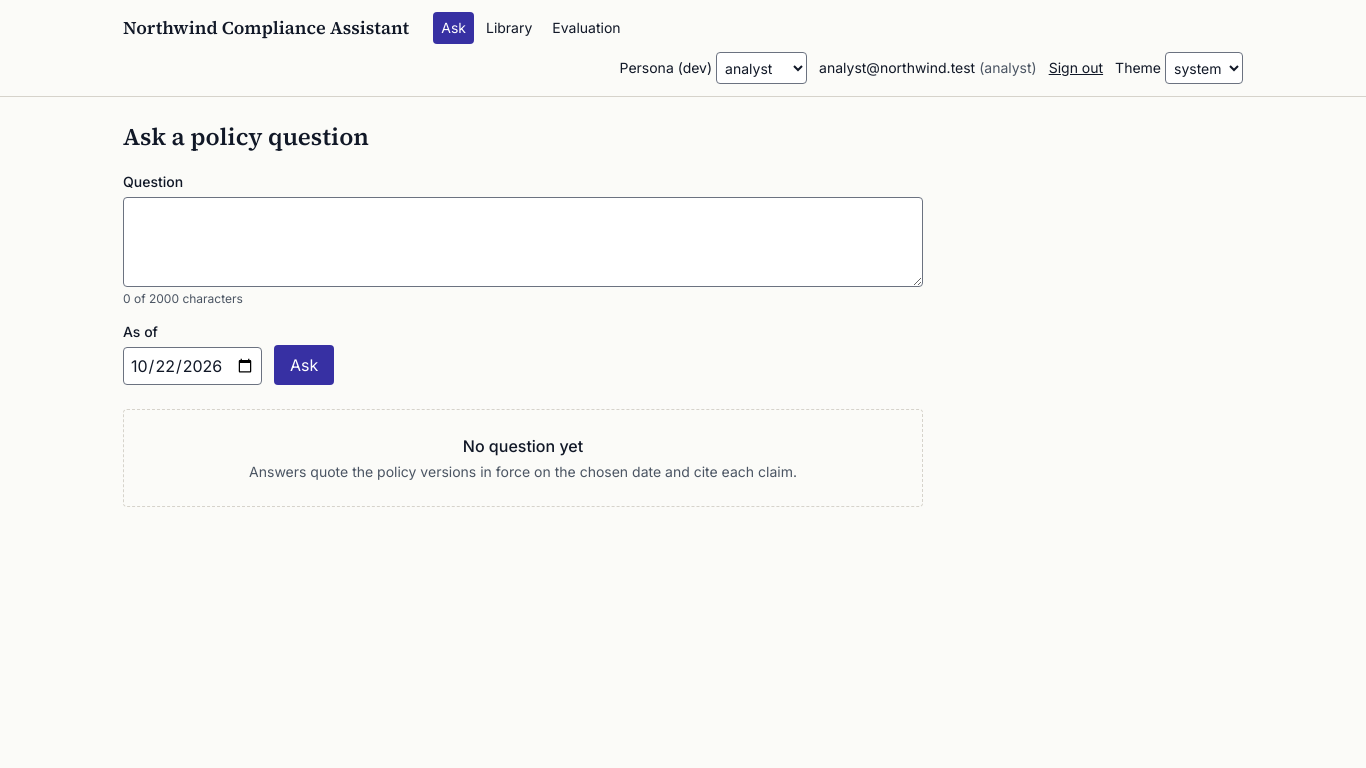
a stream error and a 429 both show a problem with retry
Step 1. Type "What is the maximum age of a proof-of-address document?" into the text box labelled "Question 0 of 2000 characters" → (523, 242), box [123,197,923,287]
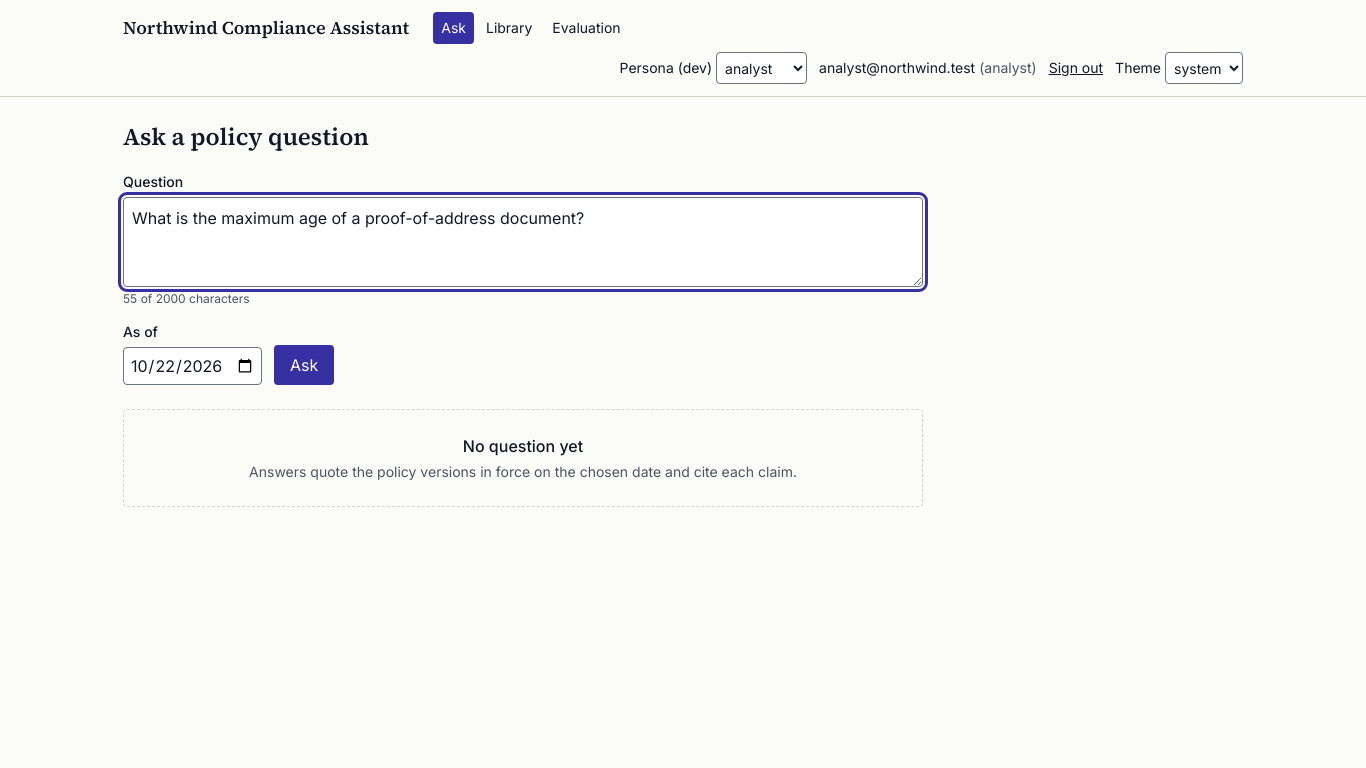
Step 2. Click the button "Ask" → (304, 365), box [274,345,334,385]
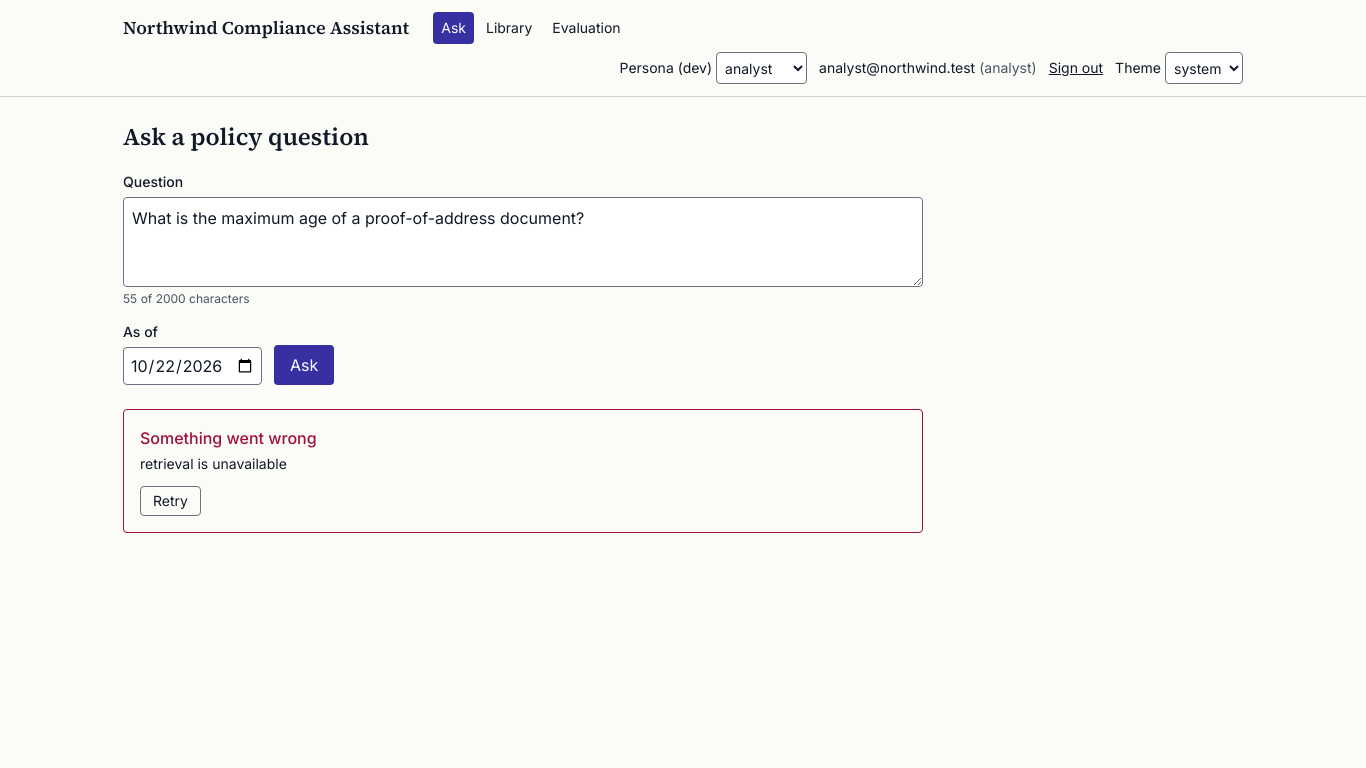
Expected: the message shows "retrieval is unavailable", [140,455,287,472]
Step 3. Click the button "Retry" → (170, 501), box [140,486,201,516]
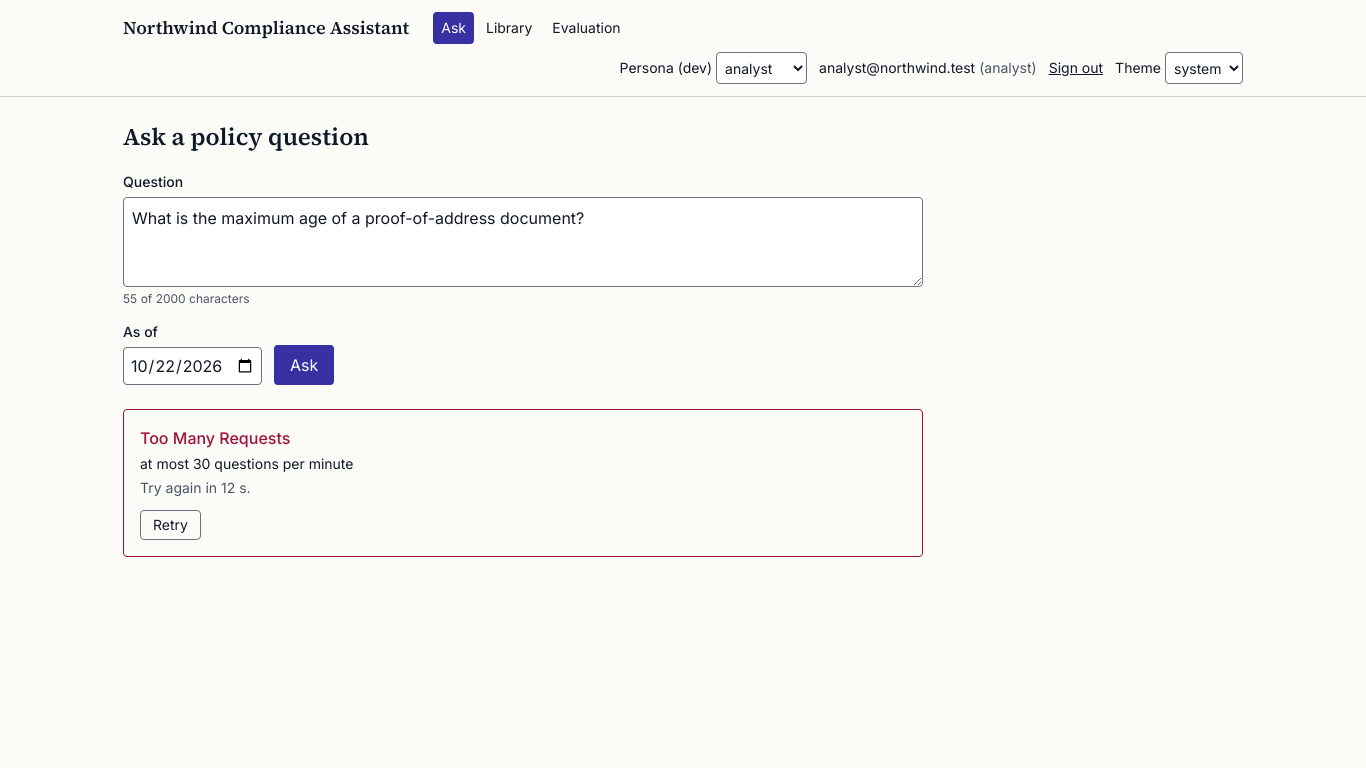
Expected: the message shows "30 questions per minute", [140,455,354,472]
Expected: the message shows "12 s", [123,409,923,557]
